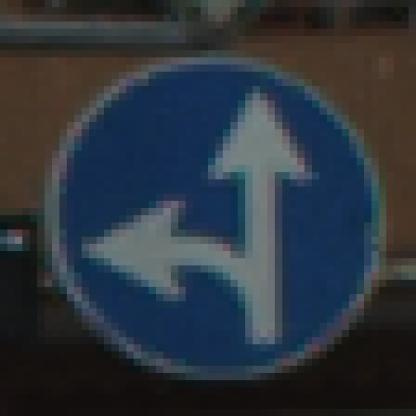Straight or Left: (45, 37, 380, 381)
